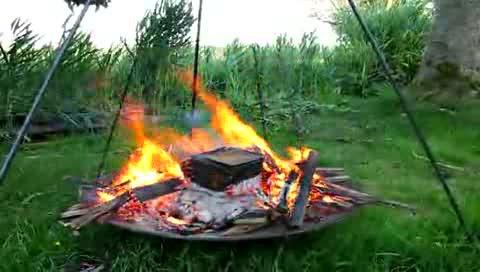fire: (125, 121, 177, 187), (212, 97, 253, 158)
